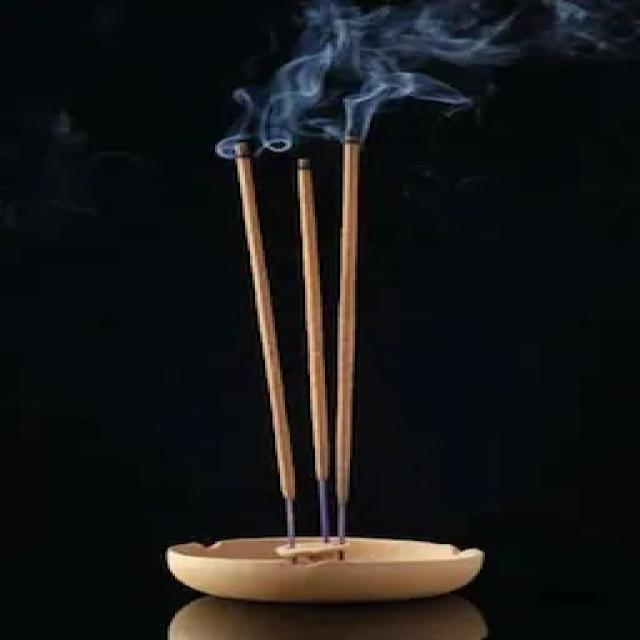Agarbatti: (216, 130, 289, 507), (327, 124, 380, 526), (286, 136, 330, 508)
